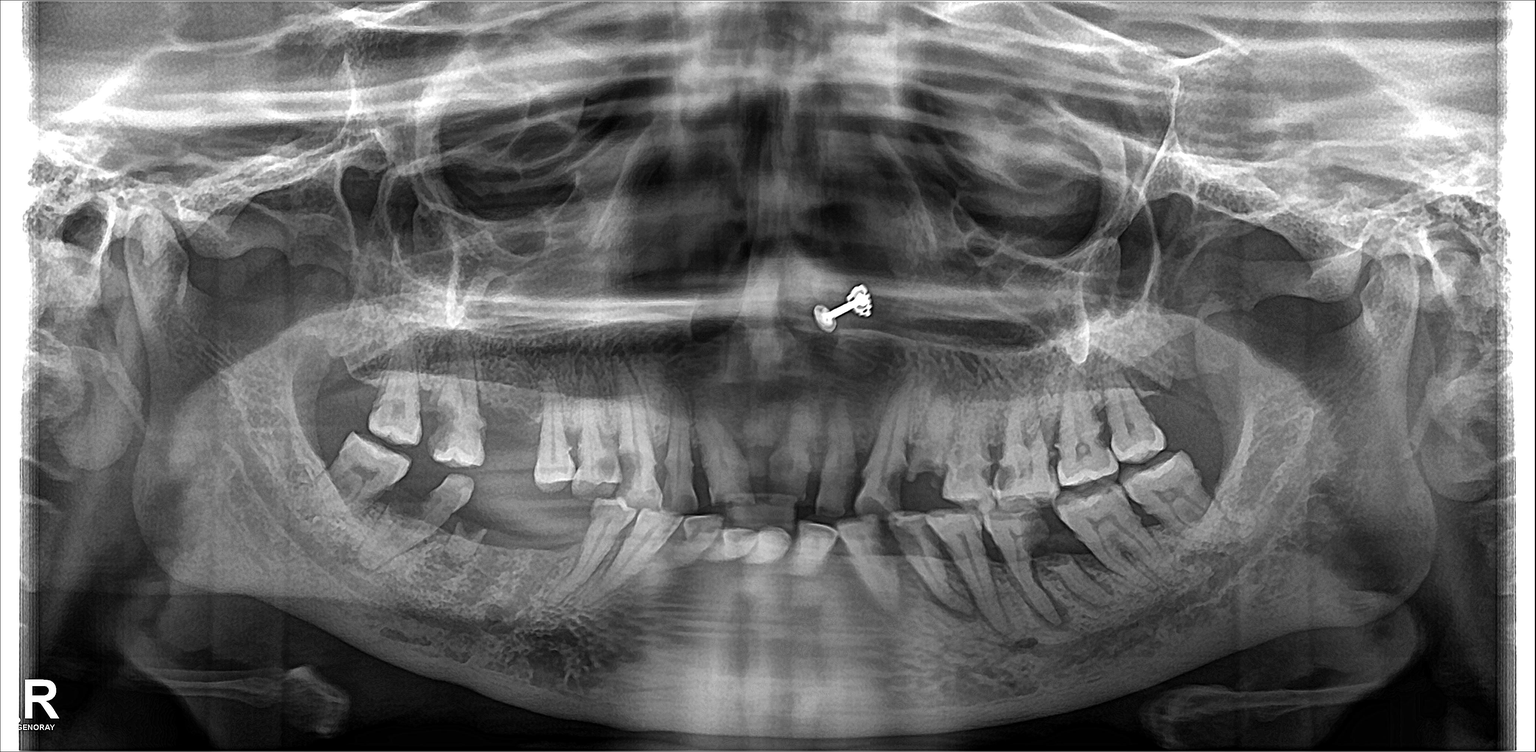Attrition: (674, 516, 840, 569)
Dental Caries: (417, 389, 463, 448), (901, 449, 943, 496), (389, 486, 426, 535)
Missing Tooth: (1149, 337, 1210, 447), (484, 374, 550, 474), (328, 335, 372, 423), (542, 508, 585, 584), (512, 503, 547, 593)
Periapical Abnormality: (892, 516, 1085, 630)
Retained Root: (449, 516, 495, 603)
